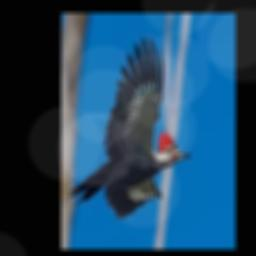Woodpecker: (68, 35, 191, 218)
